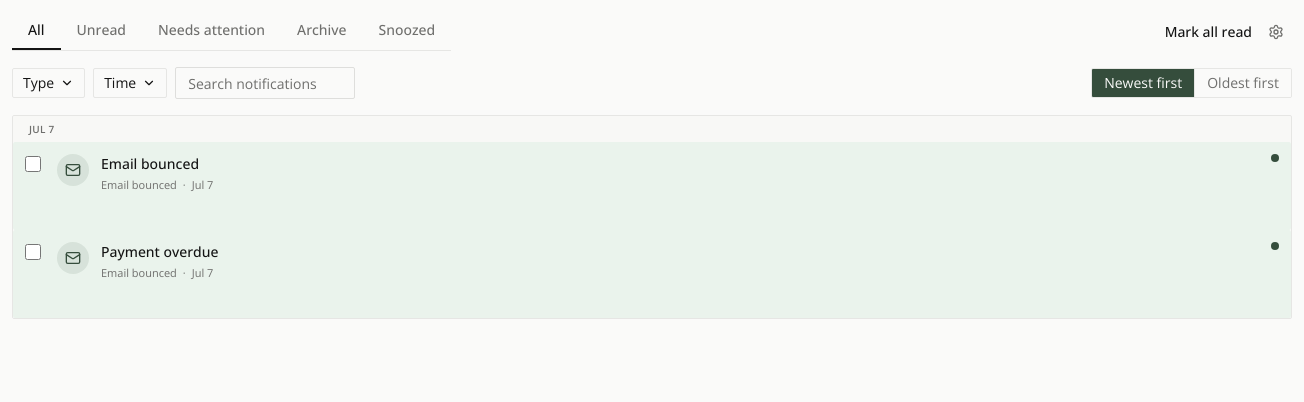
Scenario: NotificationsPageClient — multi-select and bulk bar (E3) › selecting two rows shows '2 selected'
This screenshot has width=1304, height=402.
What coordinates should you click on to do the following:
click the 1st checkbox with test id "notification-select-checkbox"
I would click on:
 (33, 164)
Its box is [25, 156, 41, 172].
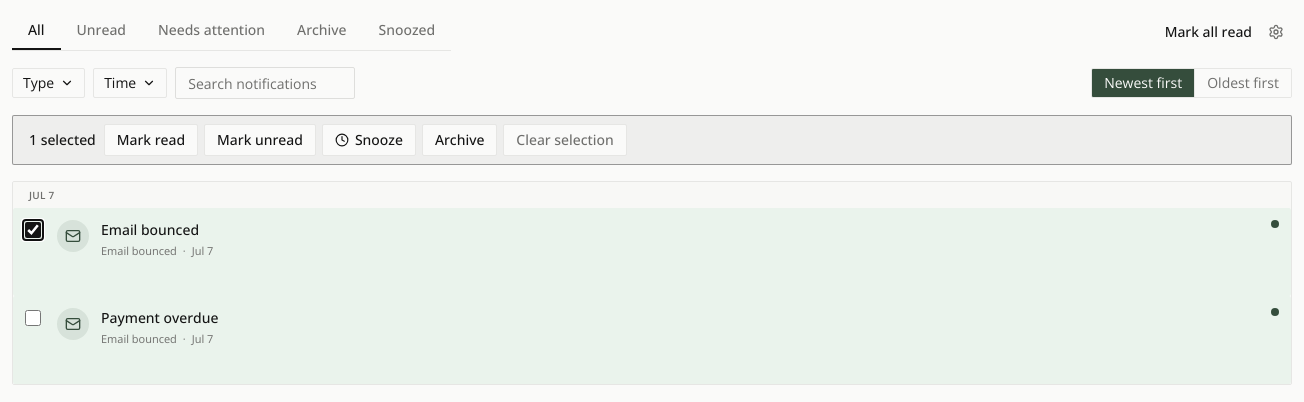
What coordinates should you click on to do the following:
click the 2nd checkbox with test id "notification-select-checkbox"
I would click on:
 (33, 318)
Its box is [25, 310, 41, 326].
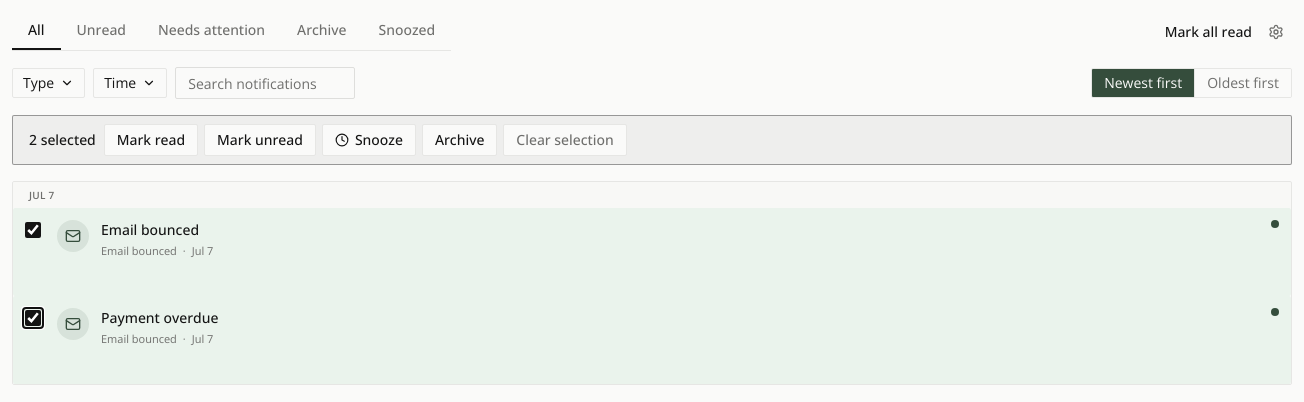
Check: the text with test id "bulk-selected-count" reads "2 selected", box [29, 130, 96, 150]
